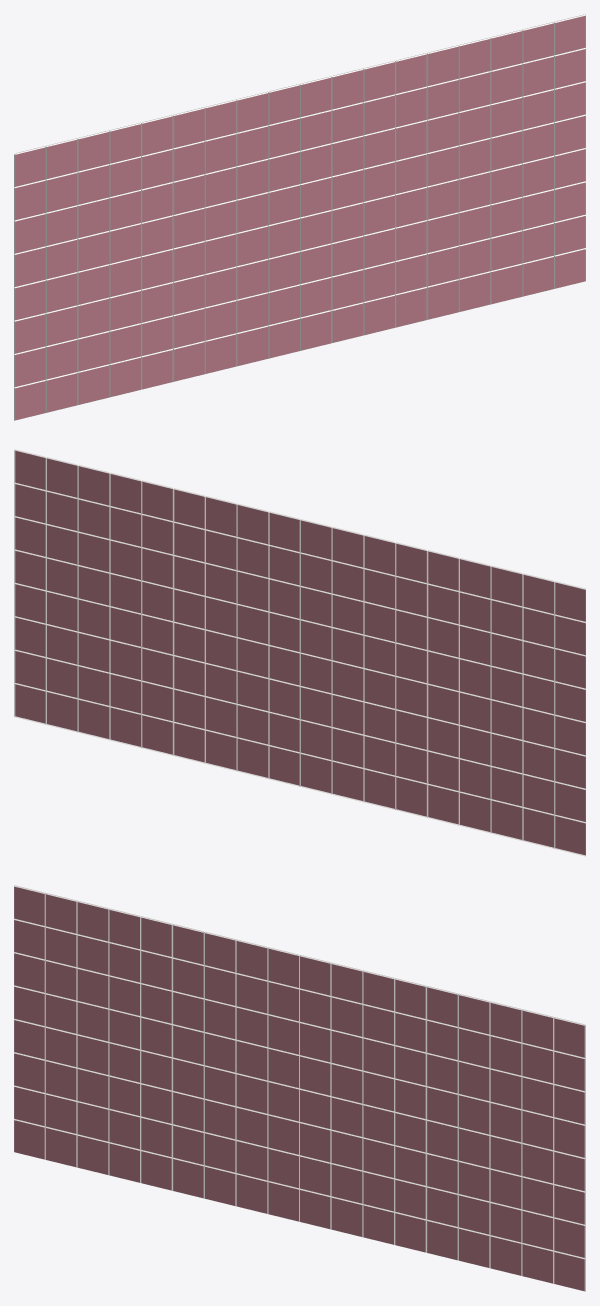
File: Floortile_11.fbx
The picture shows the model from 3 angles, top to bottom: view 1: azimuth 30°, elevation 25°; view 2: azimuth 150°, elevation 25°; view 3: azimuth 330°, elevation 25°; orthographic projection.
Parts seen in each view (by area): view 1: Floortile_11; view 2: Floortile_11; view 3: Floortile_11.
Part boxes in pixels (x1,y1,x2,y2): Floortile_11: [14, 14, 585, 420]; Floortile_11: [14, 449, 585, 856]; Floortile_11: [14, 885, 585, 1291].
Size of the model in its own units: 461 by 0.688 by 206.
